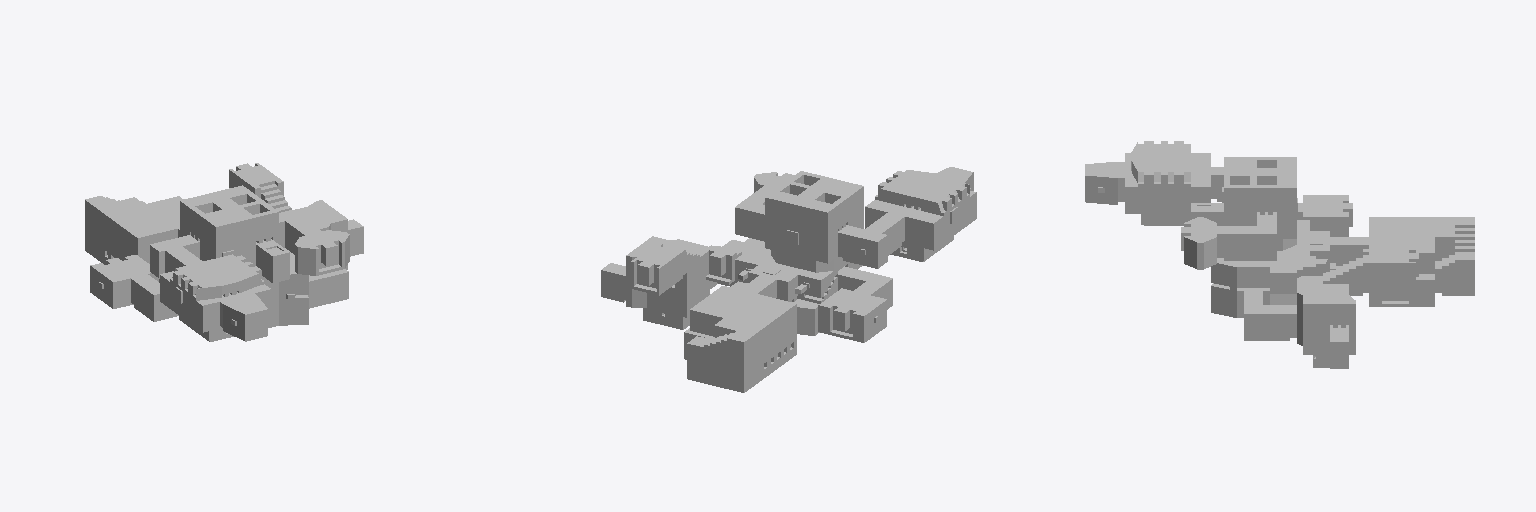
File: quake-level.obj
3 renders of one model, left to right at view 1: azimuth 30°, elevation 25°; view 2: azimuth 150°, elevation 25°; view 3: azimuth 270°, elevation 25°, orthographic.
Visible parts, largest first — view 1: dm4out; view 2: dm4out; view 3: dm4out.
Part boxes in pixels (x1,y1,x2,y2): dm4out: (85, 163, 363, 341); dm4out: (601, 167, 976, 392); dm4out: (1085, 141, 1474, 368).
Bounding box in the file's own units: 406 × 193 × 518.